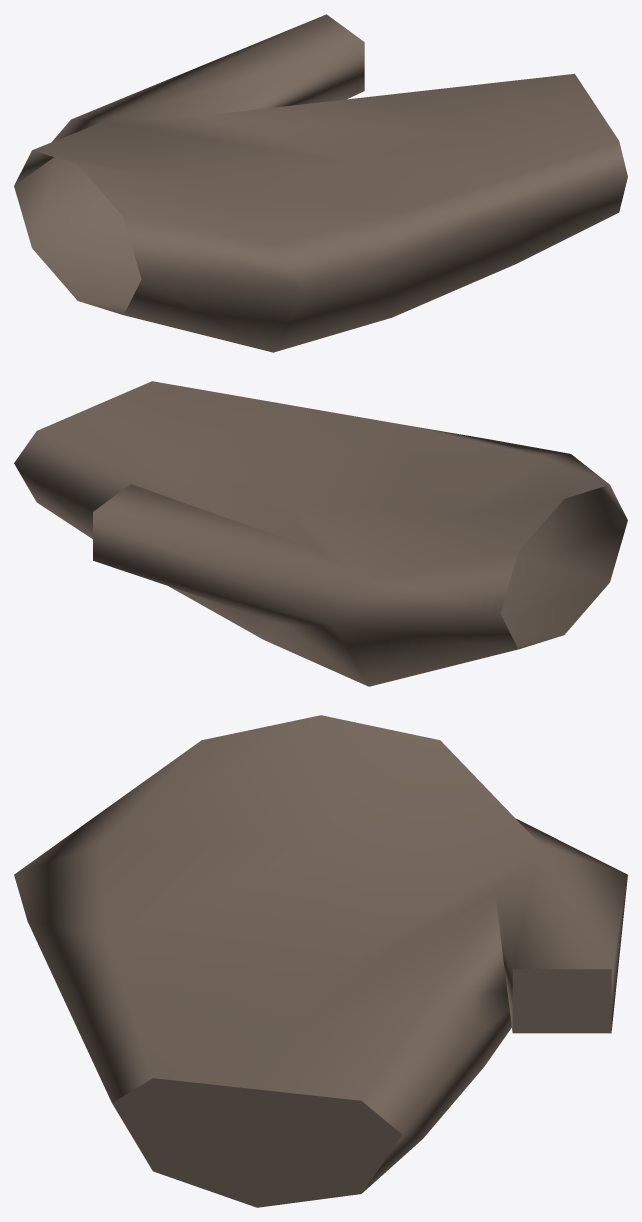
The picture shows the model from 3 angles, top to bottom: view 1: azimuth 30°, elevation 25°; view 2: azimuth 150°, elevation 25°; view 3: azimuth 270°, elevation 25°; orthographic projection. The views are drawn at different scales.
Parts seen in each view (by area): view 1: ma1; view 2: ma1; view 3: ma1.
Boxes of the visible parts, <box> form: ma1: <box>14,14,627,352</box>; ma1: <box>14,381,627,686</box>; ma1: <box>14,715,627,1207</box>.
Size of the model in its own units: 46.53 by 14.77 by 36.53.
